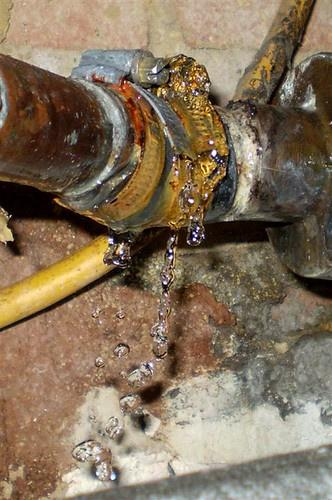water drop: (126, 363, 155, 389), (72, 440, 102, 462), (96, 461, 115, 482), (119, 395, 140, 414), (105, 416, 121, 437), (114, 343, 130, 358)
